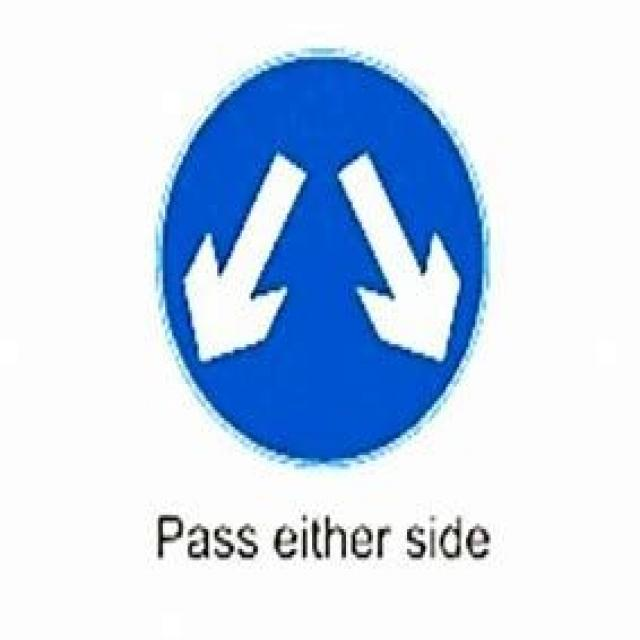PASS_EITHER_SIDE: (158, 51, 484, 461)
